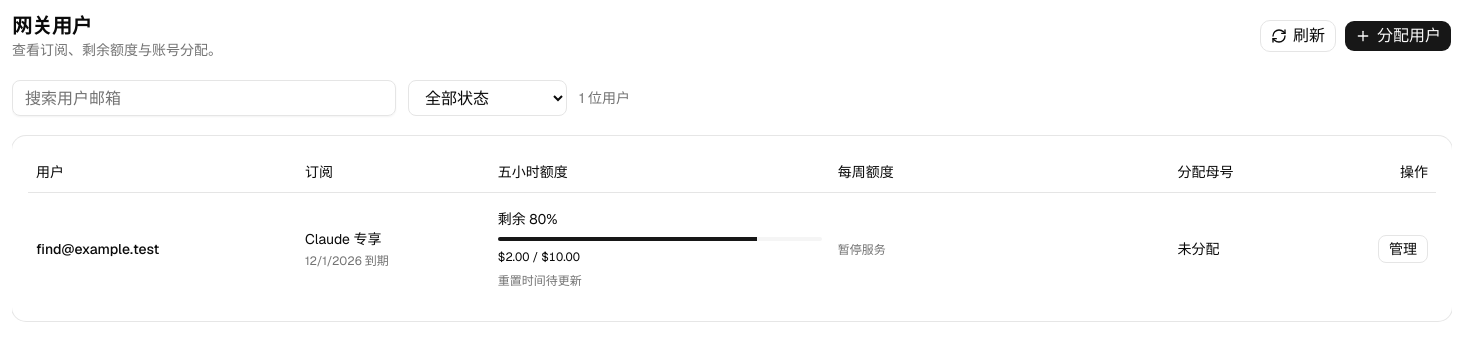
Test: filters users and keeps maintenance actions out of the table
Check: the text "Claude 专享" is shown, box [305,228,382,248]
Type "missing" into the field labelled "搜索用户" at (204, 98), box [12,80,396,116]
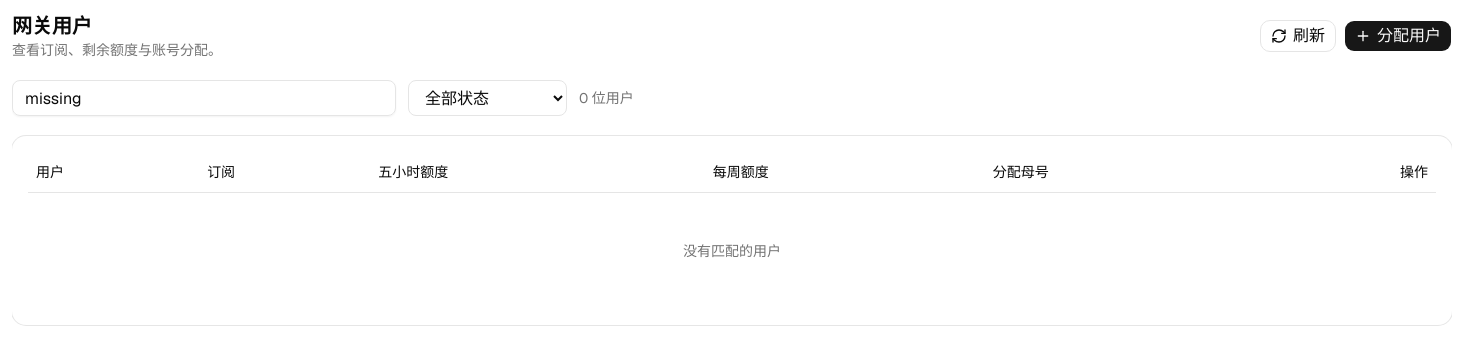
Check: the text "没有匹配的用户" is shown, box [28,192,1436,308]
